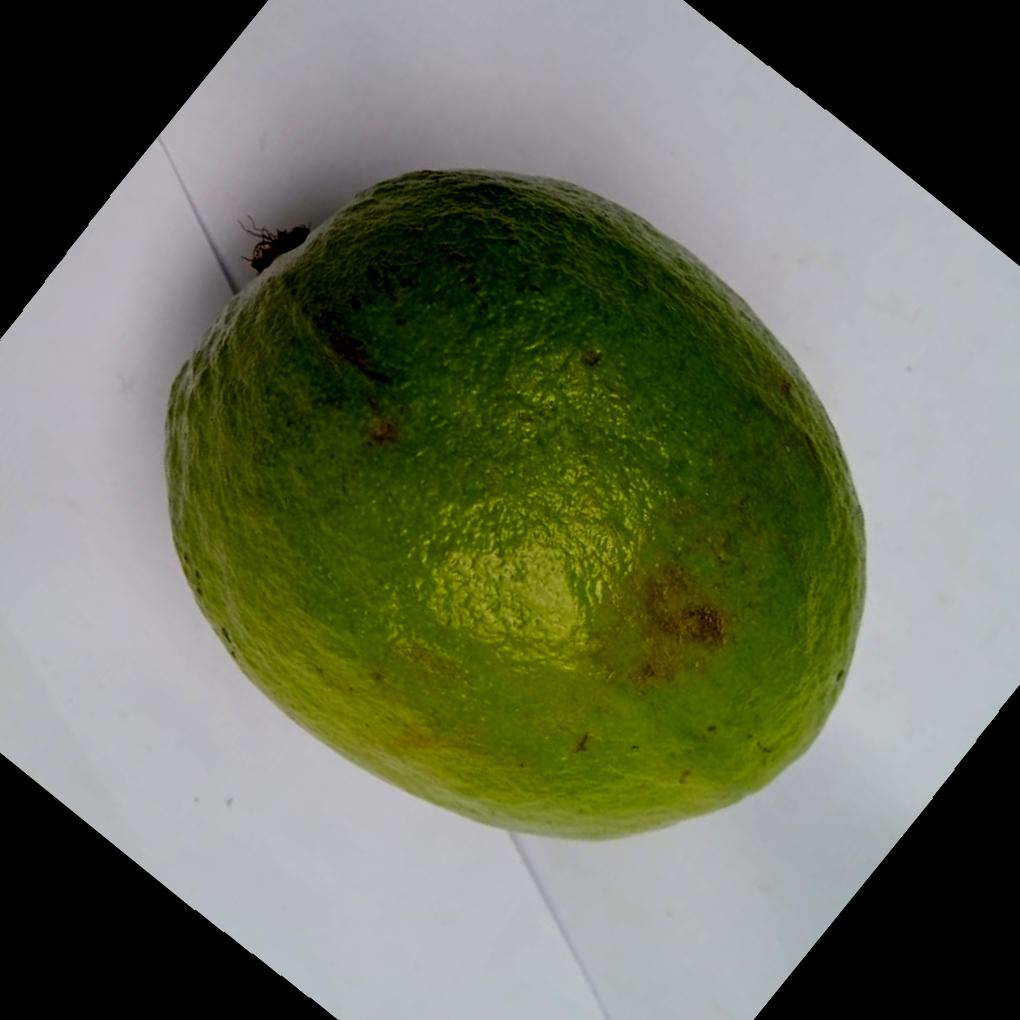FreshGuava: (159, 163, 865, 841)
